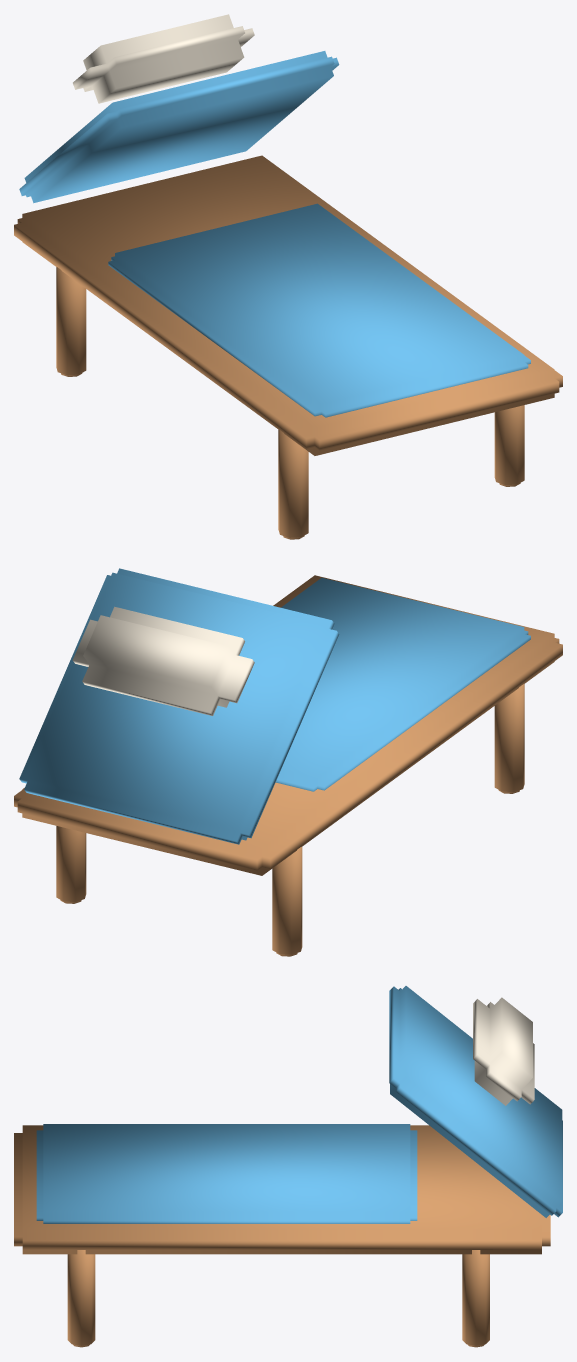
File: BeachChair.fbx
3 views of the same model, one above another, from view 1: azimuth 30°, elevation 25°; view 2: azimuth 150°, elevation 25°; view 3: azimuth 270°, elevation 25° (orthographic). The views are drawn at different scales.
Visible parts, largest first — view 1: BeachChair; view 2: BeachChair; view 3: BeachChair.
Boxes of the visible parts, x1,y1,x2,y2 form: BeachChair: (14, 14, 562, 539); BeachChair: (14, 568, 562, 956); BeachChair: (14, 986, 562, 1347).
Bounding box in the file's own units: 0.76 × 0.8647 × 1.59.
